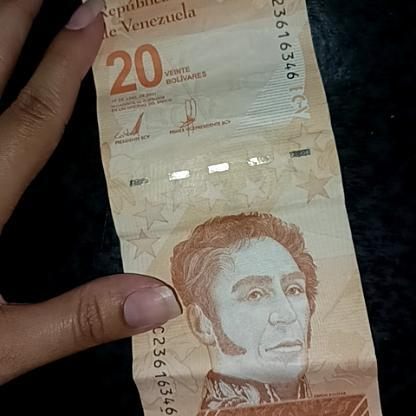twenty-front-vef: (97, 1, 398, 416)
